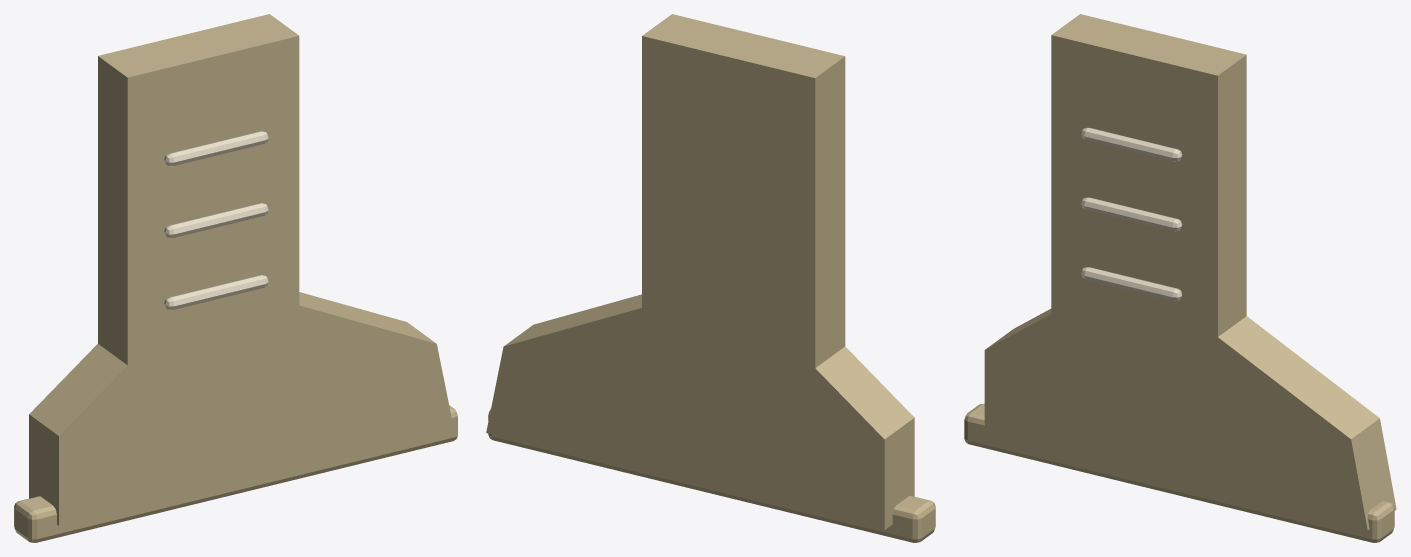
The model's file is past-footsteps.glb.
3 views of the same model, side by side, from view 1: azimuth 30°, elevation 25°; view 2: azimuth 150°, elevation 25°; view 3: azimuth 330°, elevation 25° (orthographic). The views are drawn at different scales.
Visible parts, largest first — view 1: Walking boot.001, Boot sole.001, Boot lace.003; view 2: Walking boot.001, Boot sole.001; view 3: Walking boot.001, Boot sole.001, Boot lace.003.
Part boxes in pixels (x1=…): Walking boot.001: x1=29, y1=14, x2=453, y2=525; Boot sole.001: x1=14, y1=405, x2=457, y2=542; Boot lace.003: x1=164, y1=131, x2=268, y2=309; Walking boot.001: x1=486, y1=14, x2=914, y2=529; Boot sole.001: x1=488, y1=408, x2=935, y2=542; Walking boot.001: x1=984, y1=14, x2=1396, y2=530; Boot sole.001: x1=964, y1=403, x2=1394, y2=542; Boot lace.003: x1=1081, y1=127, x2=1182, y2=300.
Bounding box in the file's own units: 0.025 × 0.0249 × 0.00365.
